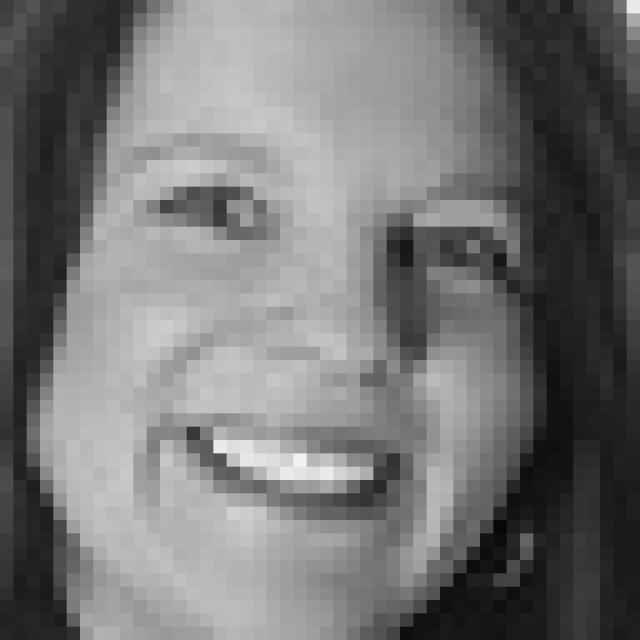happy: (116, 120, 528, 575)
